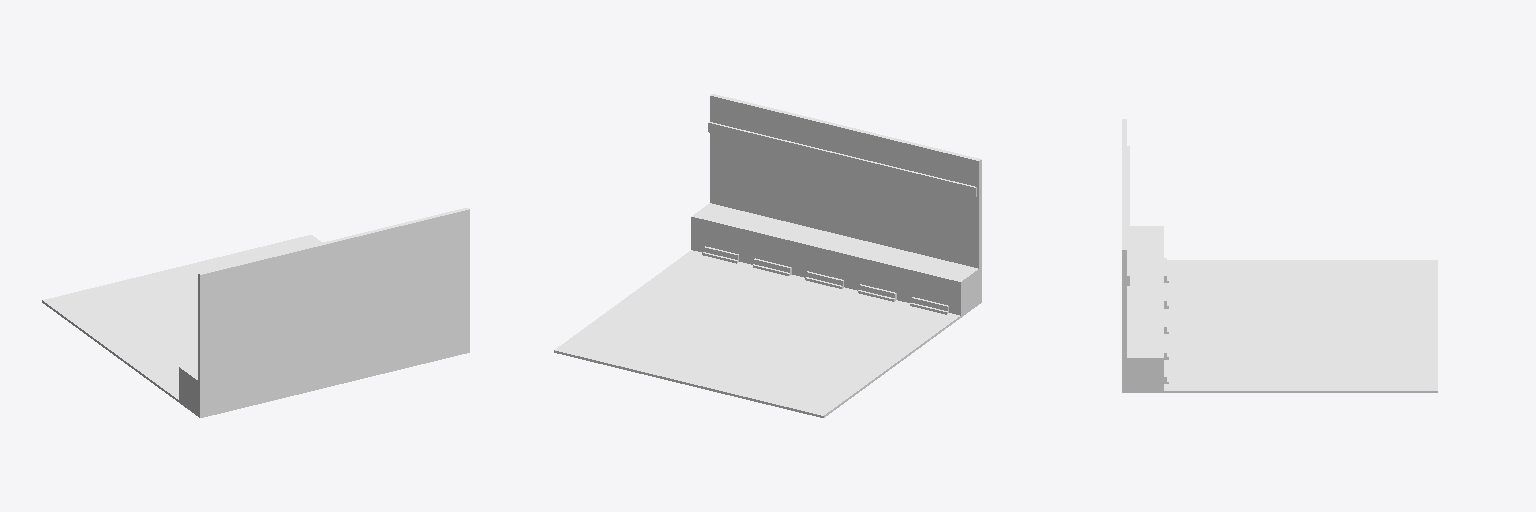
Rendered from Tunnel_Start.obj.
3 views of the same model, side by side, from view 1: azimuth 30°, elevation 25°; view 2: azimuth 150°, elevation 25°; view 3: azimuth 270°, elevation 25° (orthographic).
Visible parts, largest first — view 1: object 1; view 2: object 1; view 3: object 1.
Part boxes in pixels (x1,y1,x2,y2): object 1: (42, 208, 469, 417); object 1: (554, 94, 981, 417); object 1: (1122, 119, 1437, 392).
Bounding box in the file's own units: 11.8 × 6 × 12.